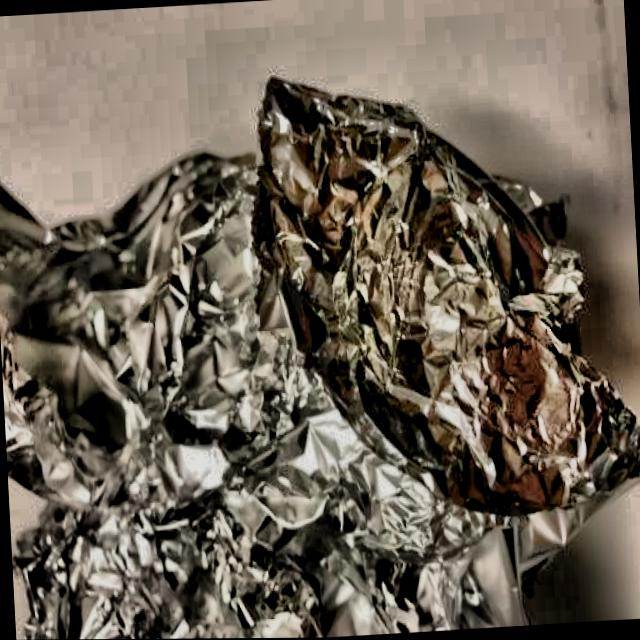Foil: (0, 53, 640, 640)
